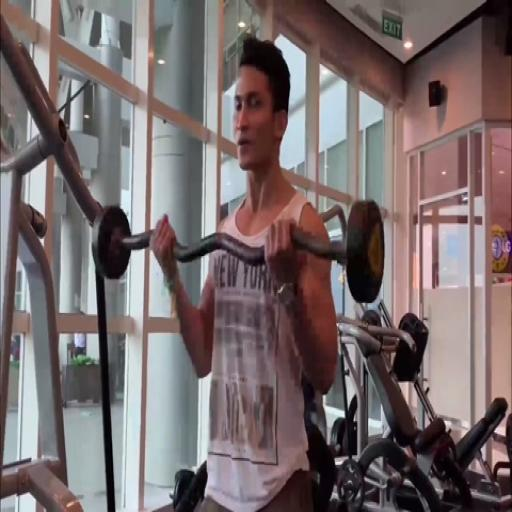exercise: (147, 34, 340, 511)
